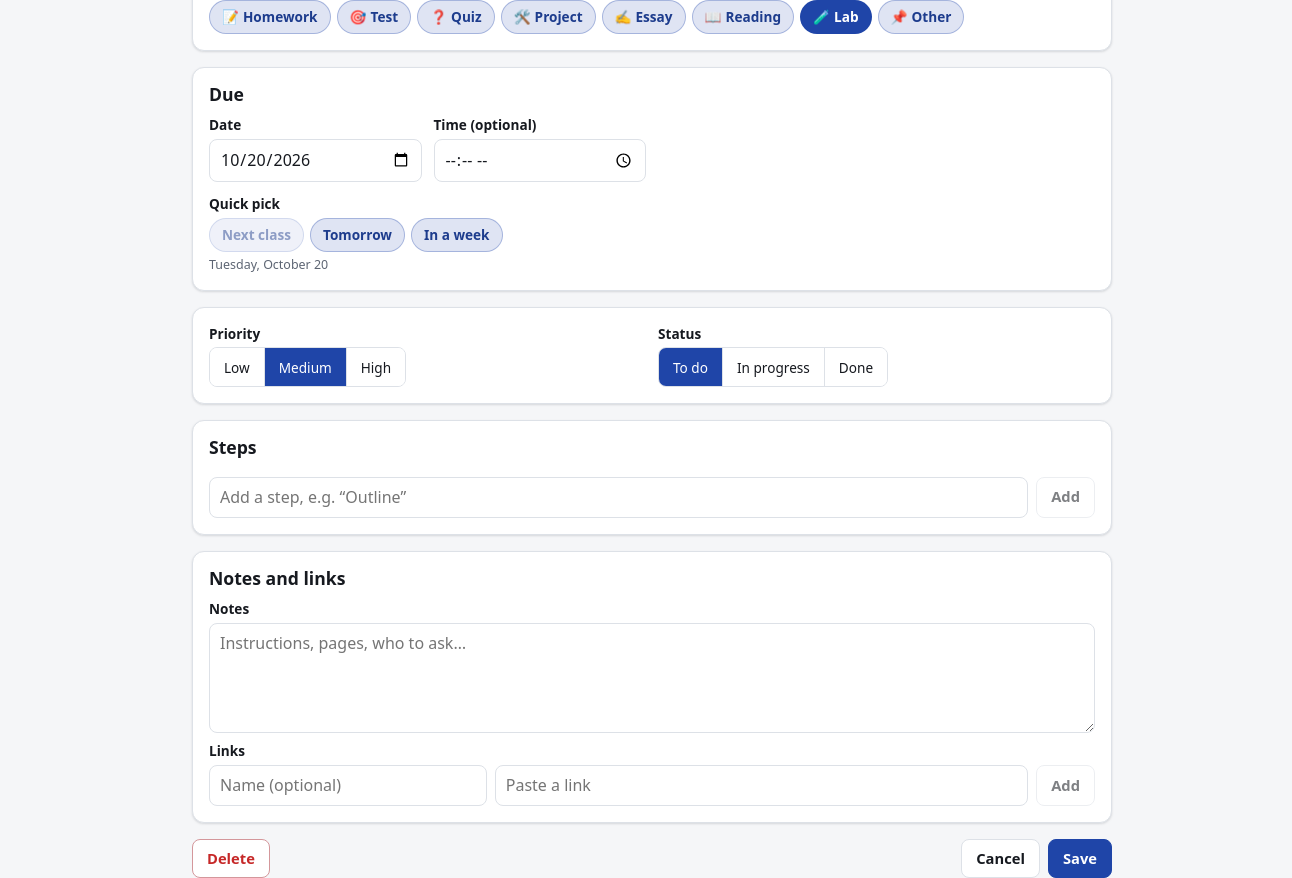
Test: HomeworkEditPage: unsaved changes › leaves without asking when nothing changed, after saving and after deleting
This screenshot has width=1292, height=878.
Later steps or results of the test are not shown.
(page scrolled)
In the text box labelled "Notes": (652, 678) [209, 622, 1095, 733], type "Bring goggles"
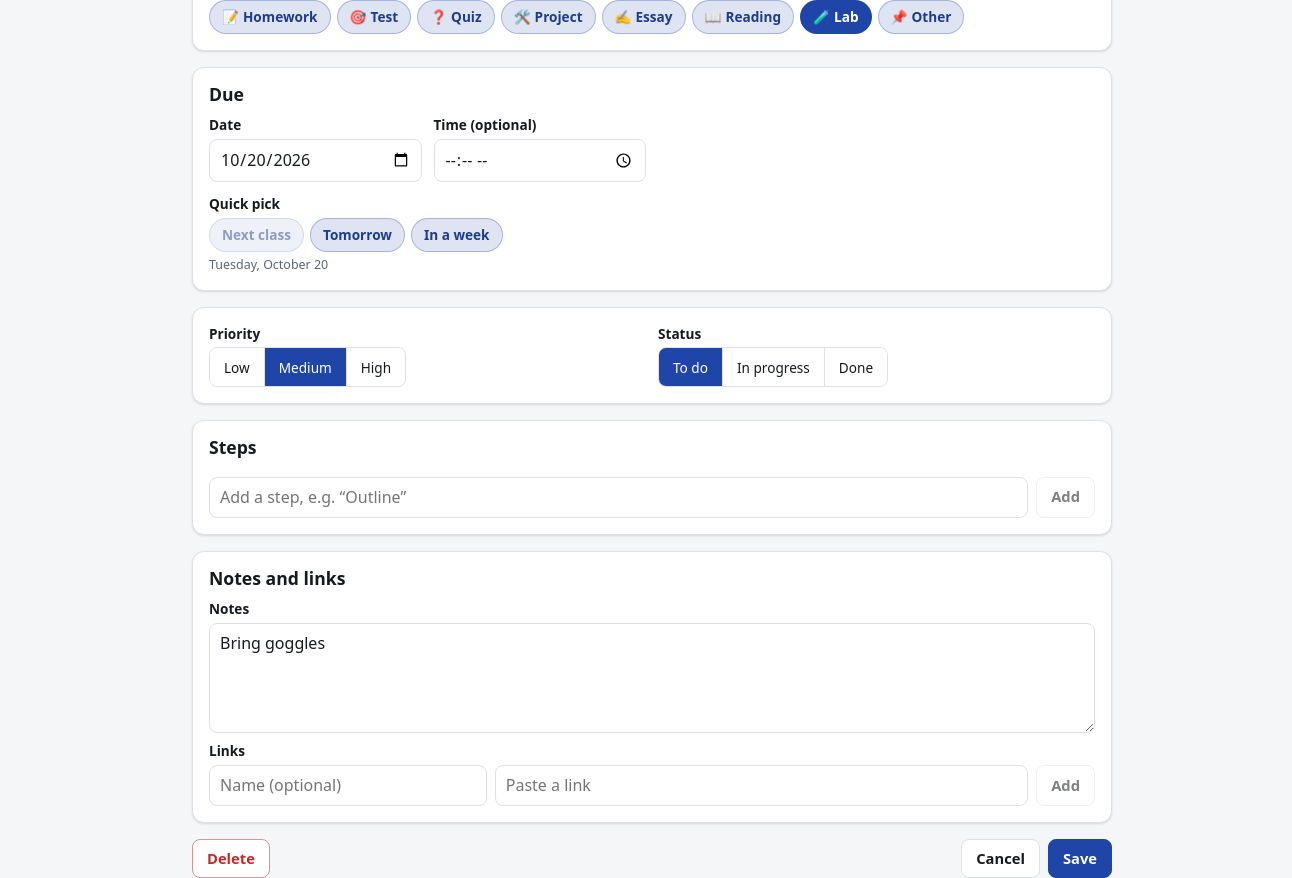
Click the button "Save": (1080, 859) [1048, 839, 1112, 877]
(page scrolled)
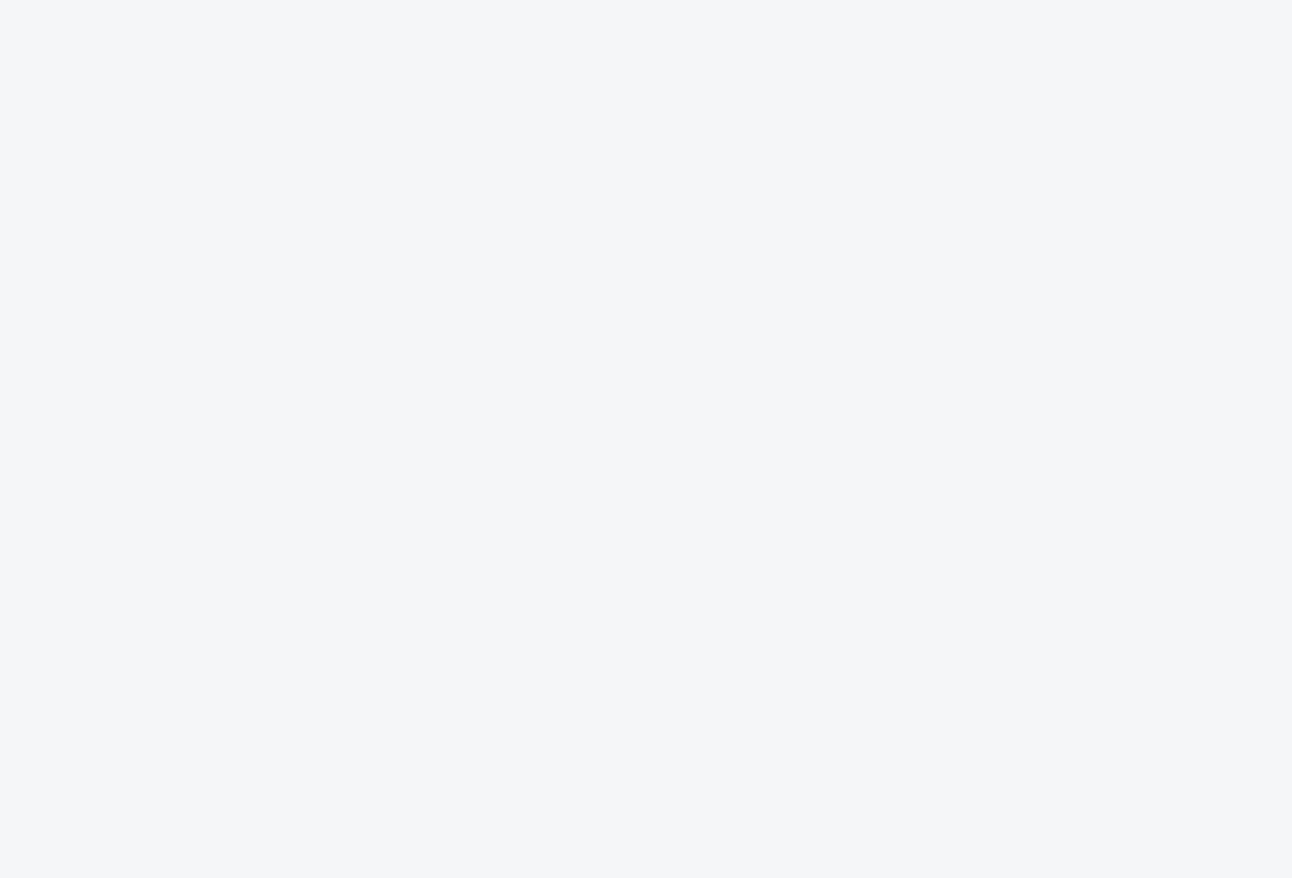
Expected: the heading "Due" is gone
